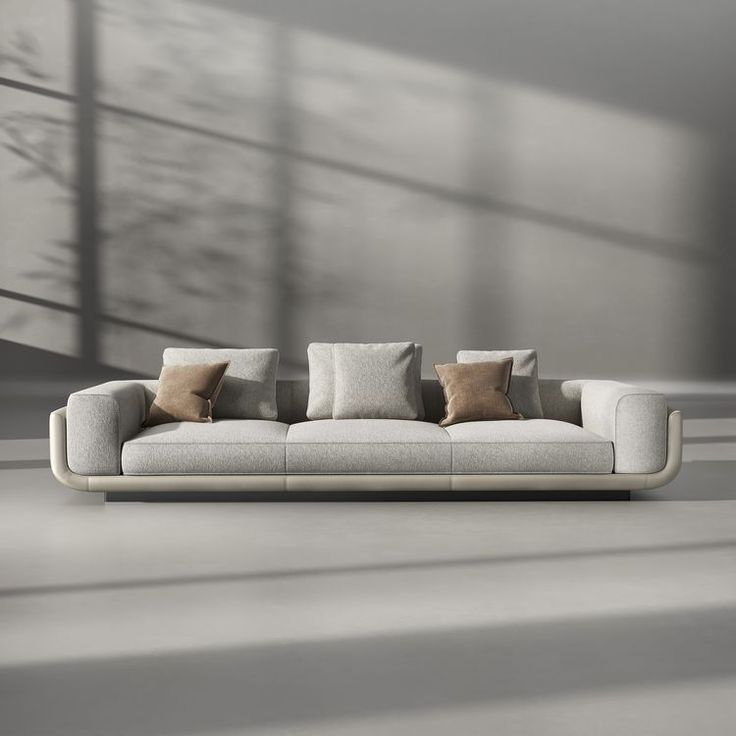3seatersofa: (50, 343, 681, 499)
backrest: (539, 378, 584, 423), (277, 379, 307, 423), (423, 379, 443, 423), (139, 381, 158, 410)
base: (50, 407, 681, 496)
leftarmrest: (583, 381, 667, 473)
leg: (44, 331, 684, 555), (105, 490, 629, 502)
pillow: (143, 348, 276, 425), (308, 343, 421, 418), (435, 350, 542, 425)
rightarmrest: (66, 381, 145, 475)
seat: (119, 419, 612, 475)
